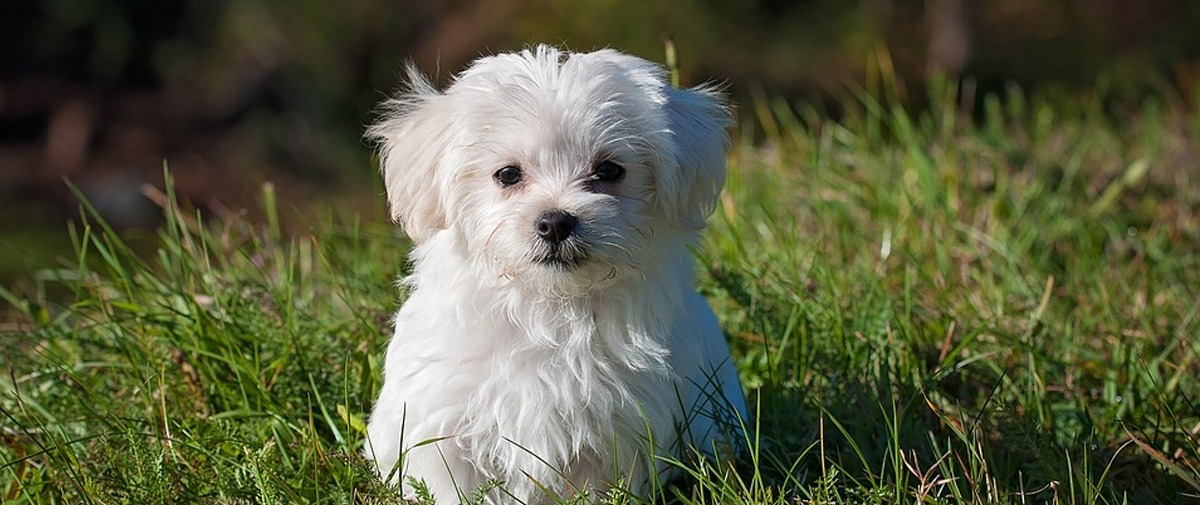dog: (347, 32, 773, 505)
